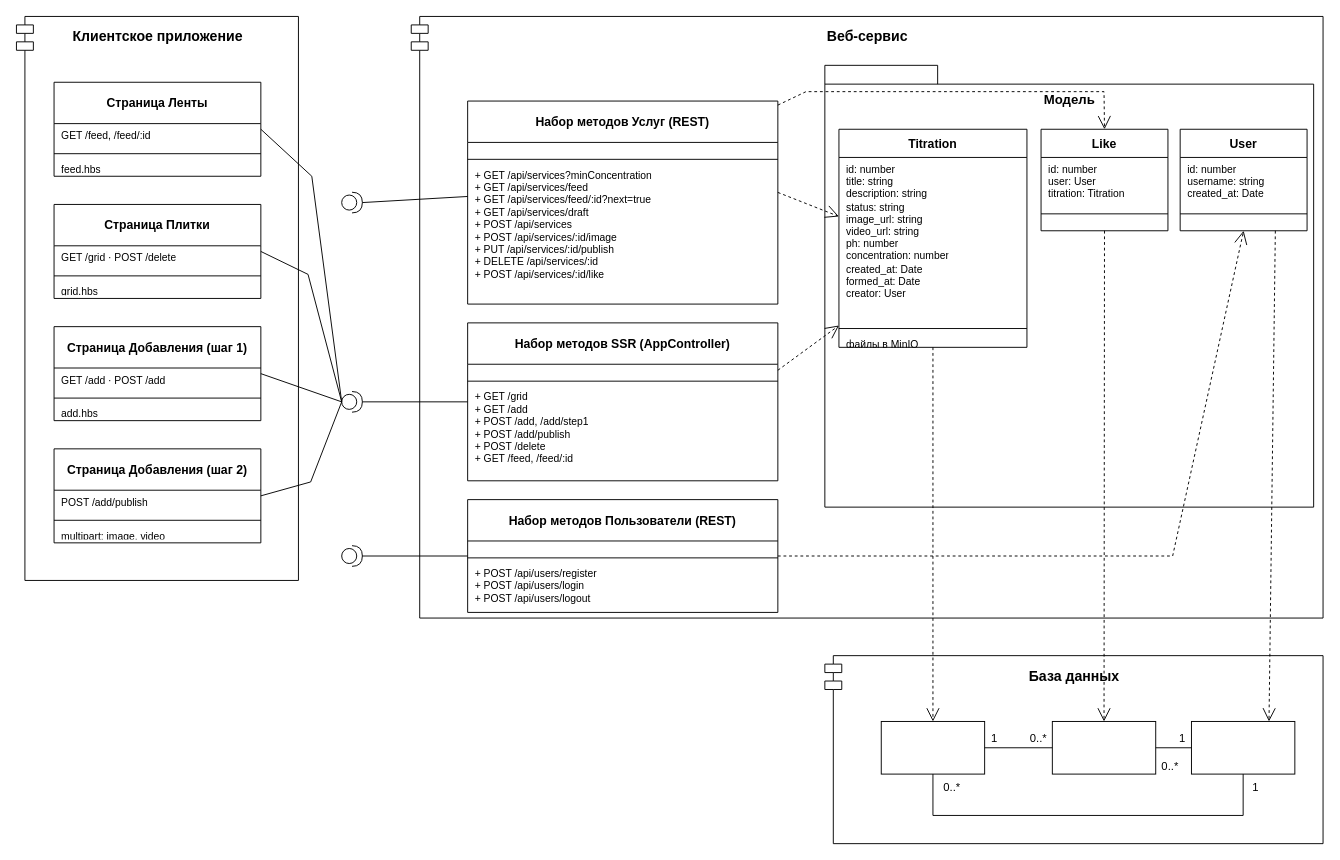
The diagram is 1340 pixels wide and 860 high, and some of its shapes have lost their labels. Here are the shapes that lost their labels. From the top down, the centre of each, then its label:
At [351,202]: "API Услуг".
At [351,401]: "SSR API".
At [351,555]: "API Пользователей".
At [932,747]: "Таблица titrations".
At [1103,747]: "Таблица likes".
At [1243,747]: "Таблица users".
